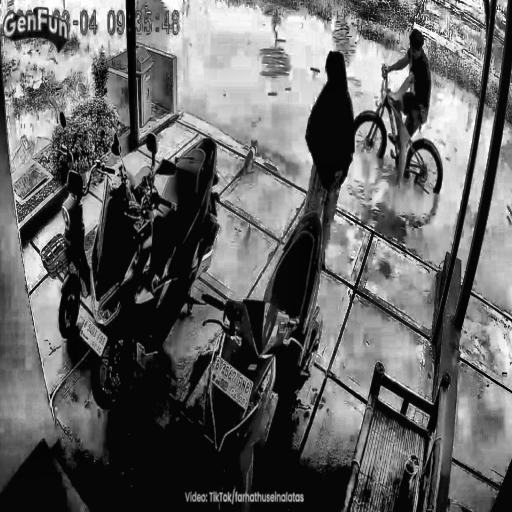siaga: (279, 84, 475, 511), (137, 0, 388, 297), (439, 199, 512, 509)
